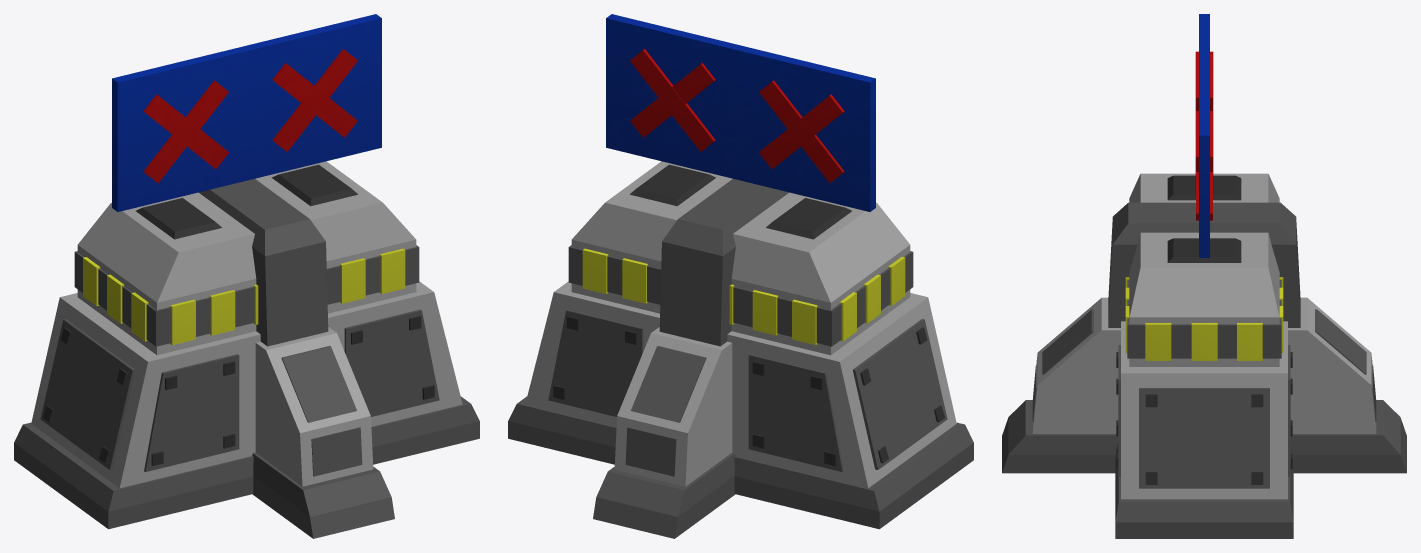
Rendered from working_barrier_cross.fbx.
3 renders of one model, left to right at view 1: azimuth 30°, elevation 25°; view 2: azimuth 150°, elevation 25°; view 3: azimuth 270°, elevation 25°, orthographic. The views are drawn at different scales.
Visible parts, largest first — view 1: working_barrier_2, Cross; view 2: working_barrier_2, Cross; view 3: working_barrier_2, Cross.
Part boxes in pixels (x1=…): working_barrier_2: x1=14, y1=161, x2=479, y2=538; Cross: x1=112, y1=14, x2=381, y2=211; working_barrier_2: x1=508, y1=161, x2=973, y2=538; Cross: x1=606, y1=14, x2=875, y2=211; working_barrier_2: x1=1002, y1=173, x2=1406, y2=538; Cross: x1=1195, y1=14, x2=1213, y2=257.
Size of the model in its own units: 150 by 155 by 150.
